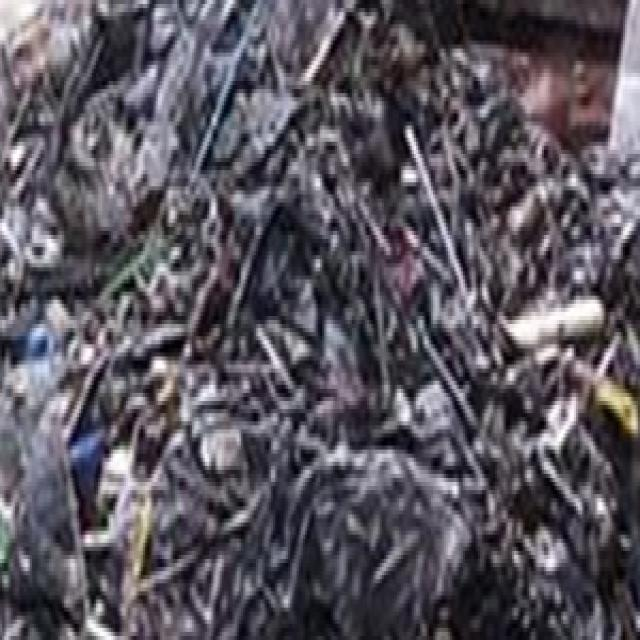-: (0, 154, 587, 640)
